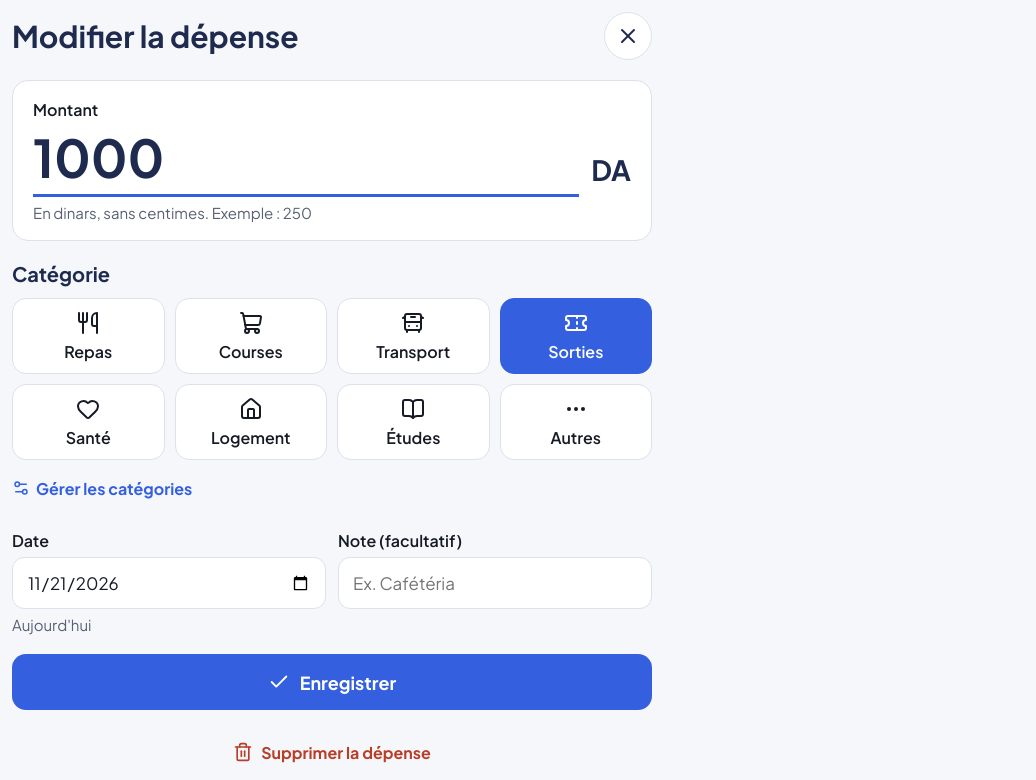
it: EditExpense › modifier une dépense ne crée jamais d’alerte, même à 4 500 DA
Replace the text in the field labelled "Montant" with "4500" at (306, 158), box [33,120,579,197]
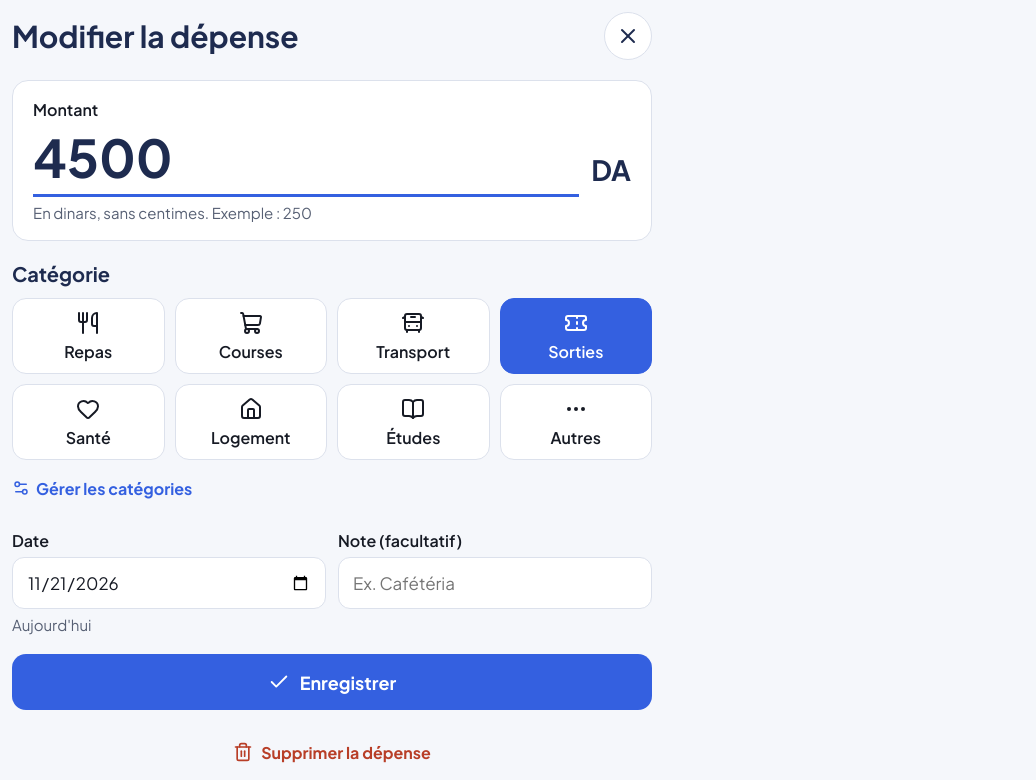
Click the button "Enregistrer" at (332, 682), box [12,654,652,710]
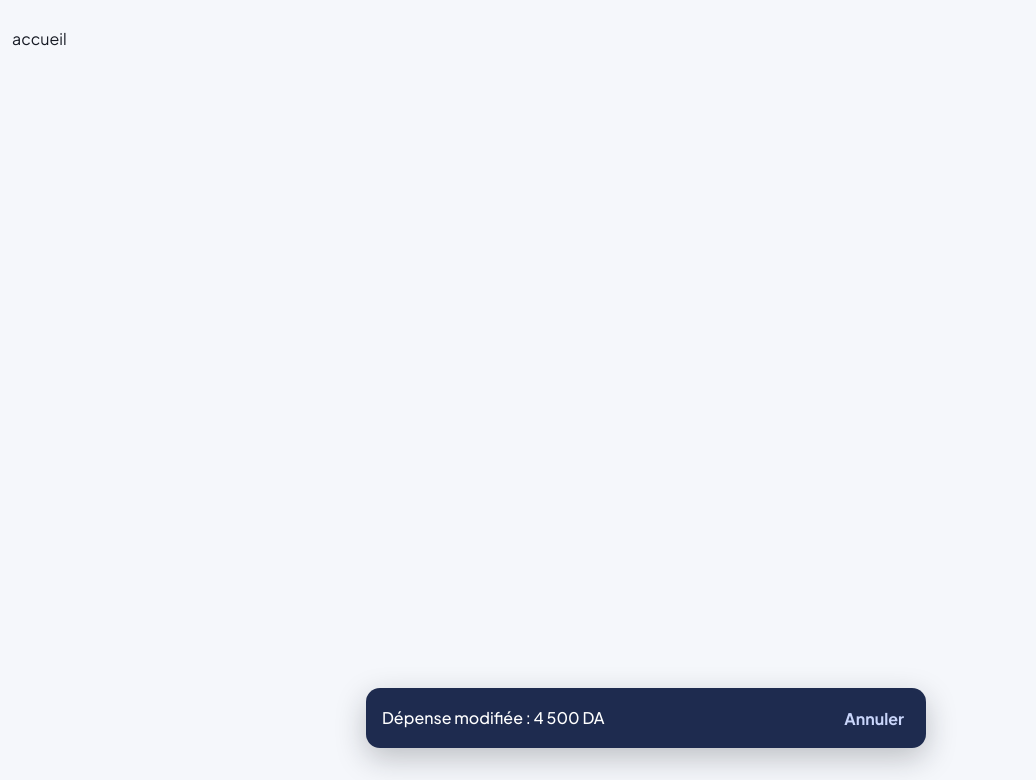
Expected: the text "accueil" is shown, [12,28,67,49]
